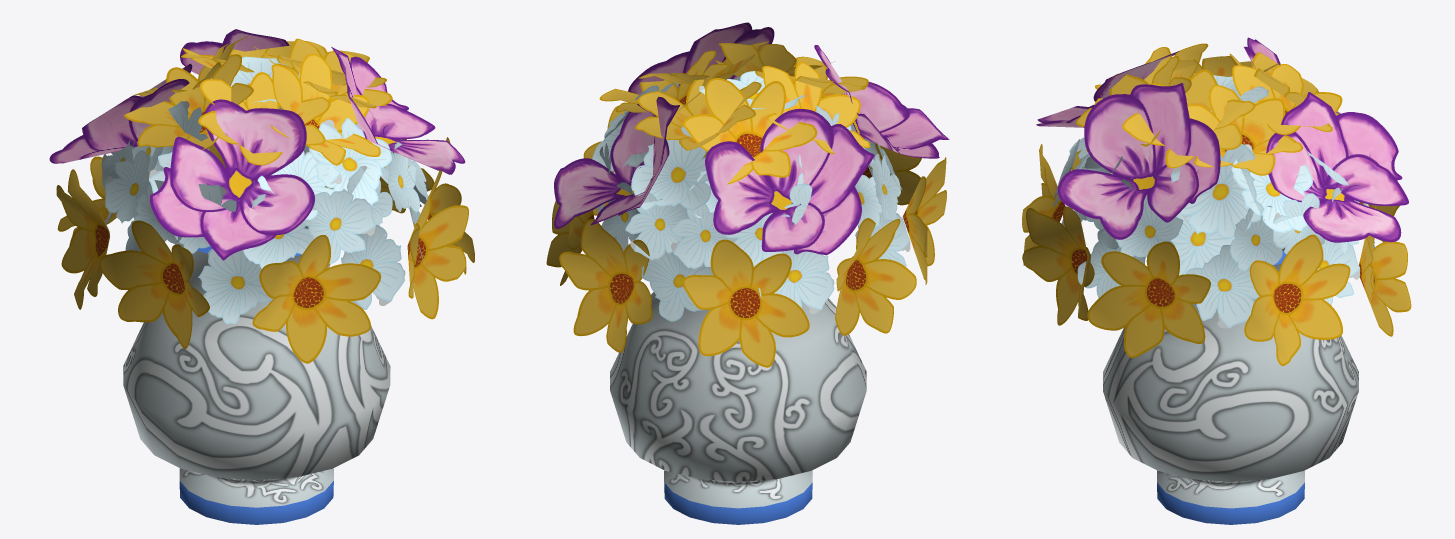
Rendered from FlowerVase_ASS.fbx.
3 renders of one model, left to right at view 1: azimuth 30°, elevation 25°; view 2: azimuth 150°, elevation 25°; view 3: azimuth 270°, elevation 25°, orthographic. The views are drawn at different scales.
Parts seen in each view (by area): view 1: FLOWVASE_MESH; view 2: FLOWVASE_MESH; view 3: FLOWVASE_MESH.
Part boxes in pixels (x1=…): FLOWVASE_MESH: x1=49, y1=29, x2=474, y2=524; FLOWVASE_MESH: x1=546, y1=22, x2=949, y2=524; FLOWVASE_MESH: x1=1022, y1=37, x2=1411, y2=524.
Size of the model in its own units: 31.44 by 37.96 by 32.3.
1 material, 1 textured.
